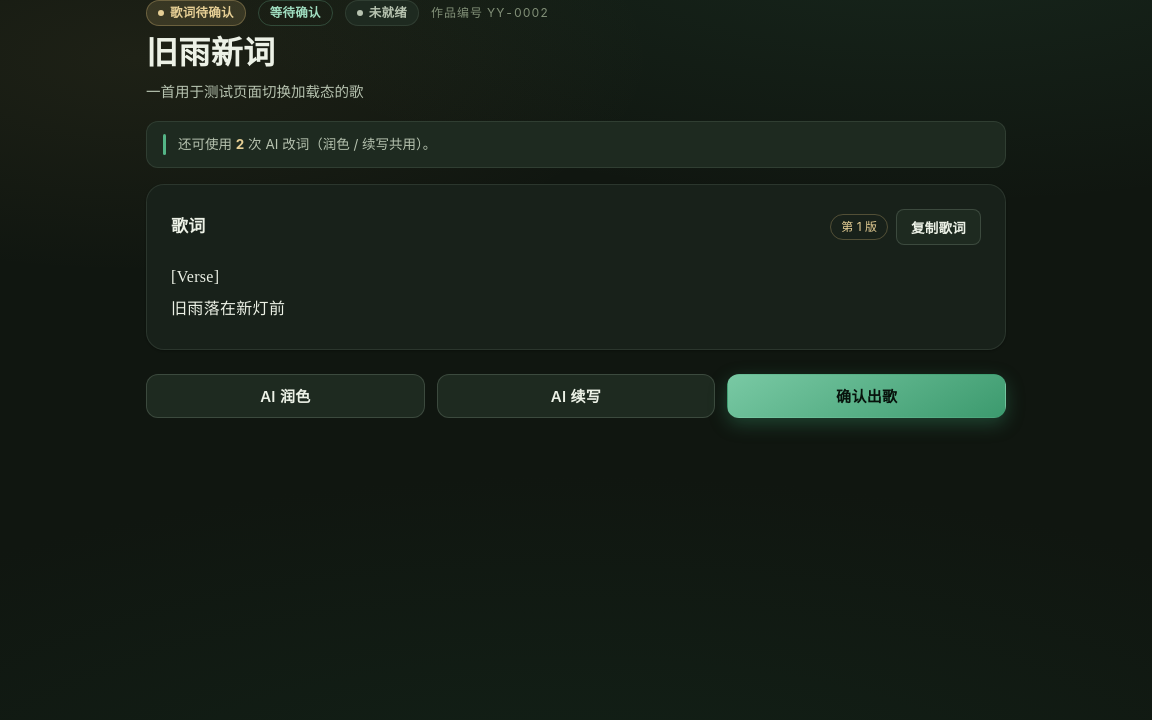
Test case: WorkPage › does not treat non-recoverable status errors as temporary reconnecting
This screenshot has width=1152, height=720.
Click the button "确认出歌" at point(867, 396), box [727, 374, 1006, 418]
Wait 3000 ms
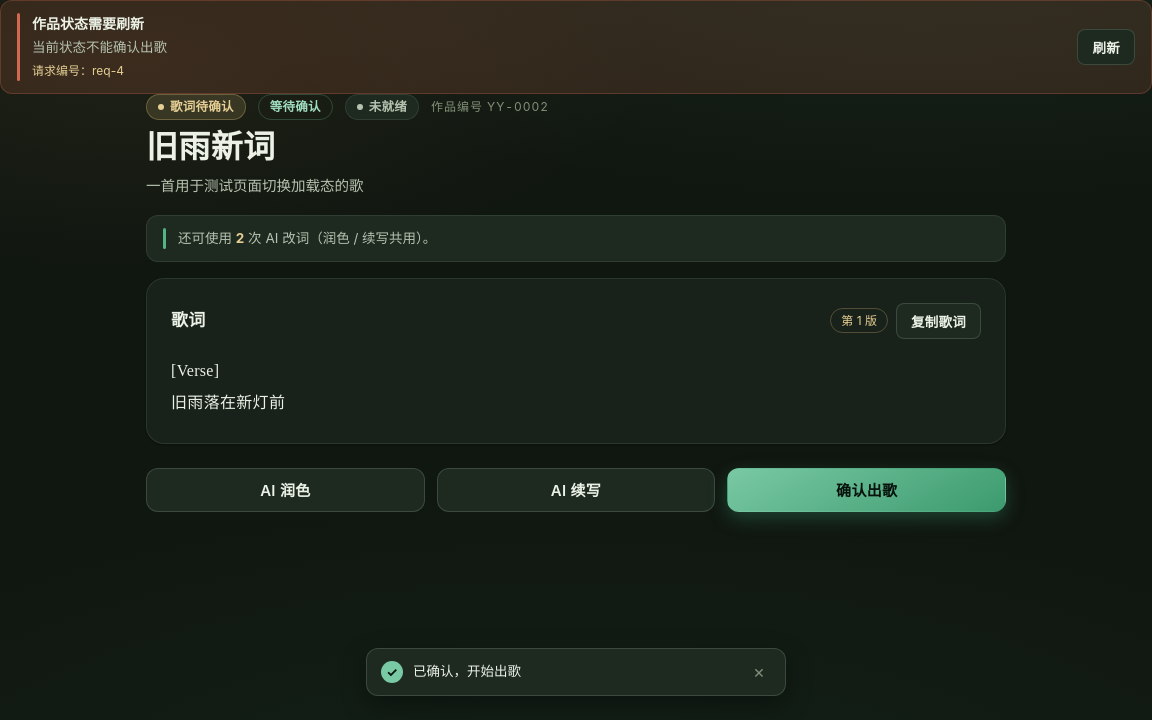
Check: the text "作品状态需要刷新" is shown, box [32, 15, 144, 32]
Check: the text "当前状态不能确认出歌" is shown, box [32, 39, 167, 55]
